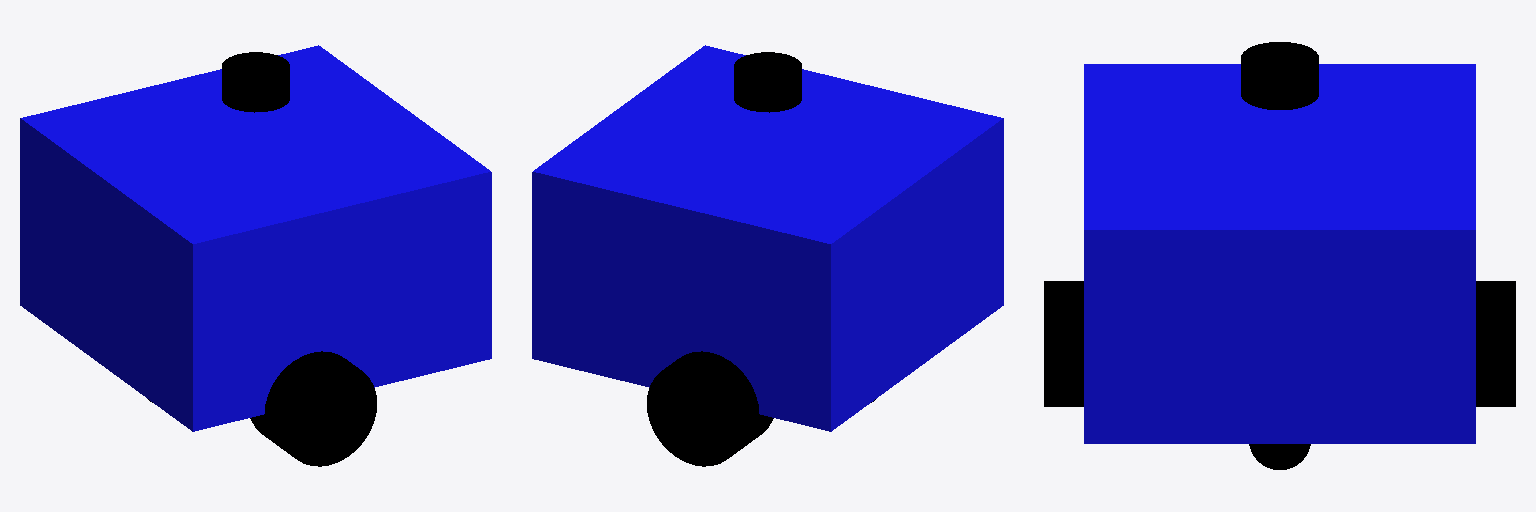
The robot description file, URDF, robot "fishbot":
<?xml version="1.0"?>
<robot name="fishbot">


  <!-- Robot Footprint -->
  <link name="base_footprint"/>

  <joint name="base_joint" type="fixed">
    <parent link="base_footprint"/>
    <child link="base_link"/>
    <origin xyz="0.0 0.0 0.2" rpy="0 0 0"/>
  </joint>


  <!-- base link -->
  <link name="base_link">
  	<visual>
      <origin xyz="0 0 0.0" rpy="0 0 0"/>
      <geometry>
    <box size="0.2 0.2 0.12" />
      </geometry>
      <material name="blue">
      	<color rgba="0.1 0.1 1.0 0.5" /> 
      </material>
    </visual>
    <collision>
      <origin xyz="0 0 0.0" rpy="0 0 0"/>
      <geometry>
    <box size="0.2 0.2 0.12" />
      </geometry>
      <material name="blue">
      	<color rgba="0.1 0.1 1.0 0.5" /> 
      </material>
    </collision>
    <inertial>
      <mass value="0.2"/>
      <inertia ixx="0.0122666" ixy="0" ixz="0" iyy="0.0122666" iyz="0" izz="0.02"/>
    </inertial>
  </link>
    
  <!-- laser link -->
  <link name="laser_link">
    <visual>
      <origin xyz="0 0 0" rpy="0 0 0"/>
      <geometry>
        <cylinder length="0.02" radius="0.02"/>
      </geometry>
      <material name="black">
        <color rgba="0.0 0.0 0.0 0.5" /> 
      </material>
    </visual>
    <collision>
      <origin xyz="0 0 0" rpy="0 0 0"/>
      <geometry>
        <cylinder length="0.02" radius="0.02"/>
      </geometry>
      <material name="black">
        <color rgba="0.0 0.0 0.0 0.5" /> 
      </material>
    </collision>
    <inertial>
    <mass value="0.1"/>
      <inertia ixx="0.000190416666667" ixy="0" ixz="0" iyy="0.0001904" iyz="0" izz="0.00036"/>
    </inertial>
  </link>
  
  <!-- laser joint -->
  <joint name="laser_joint" type="fixed">
      <parent link="base_link" />
      <child link="laser_link" />
      <origin xyz="0 0 0.1" />
  </joint>

  <link name="imu_link">
  	<visual>
      <origin xyz="0 0 0.0" rpy="0 0 0"/>
      <geometry>
		    <box size="0.02 0.02 0.02"/>
      </geometry>
    </visual>
    <collision>
      <origin xyz="0 0 0.0" rpy="0 0 0"/>
      <geometry>
		    <box size="0.02 0.02 0.02"/>
      </geometry>
    </collision>
    <inertial>
      <mass value="0.1"/>
        <inertia ixx="0.000190416666667" ixy="0" ixz="0" iyy="0.0001904" iyz="0" izz="0.00036"/>
      </inertial>
  </link>

  <!-- imu joint -->
  <joint name="imu_joint" type="fixed">
      <parent link="base_link" />
      <child link="imu_link" />
      <origin xyz="0 0 0.02" />
  </joint>


  <link name="left_wheel_link">
      <visual>
        <origin xyz="0 0 0" rpy="1.57079 0 0"/>
        <geometry>
          <cylinder length="0.04" radius="0.032"/>
        </geometry>
          <material name="black">
            <color rgba="0.0 0.0 0.0 0.5" /> 
          </material>
      </visual>
      <collision>
        <origin xyz="0 0 0" rpy="1.57079 0 0"/>
        <geometry>
          <cylinder length="0.04" radius="0.032"/>
        </geometry>
          <material name="black">
            <color rgba="0.0 0.0 0.0 0.5" /> 
          </material>
      </collision>
      <inertial>
        <mass value="0.2"/>
          <inertia ixx="0.000190416666667" ixy="0" ixz="0" iyy="0.0001904" iyz="0" izz="0.00036"/>
        </inertial>
  </link>
    
  <link name="right_wheel_link">
      <visual>
        <origin xyz="0 0 0" rpy="1.57079 0 0"/>
        <geometry>
          <cylinder length="0.04" radius="0.032"/>
        </geometry>
          <material name="black">
            <color rgba="0.0 0.0 0.0 0.5" /> 
          </material>
      </visual>
      <collision>
        <origin xyz="0 0 0" rpy="1.57079 0 0"/>
        <geometry>
          <cylinder length="0.04" radius="0.032"/>
        </geometry>
          <material name="black">
            <color rgba="0.0 0.0 0.0 0.5" /> 
          </material>
      </collision>
      <inertial>
      <mass value="0.2"/>
      <inertia ixx="0.000190416666667" ixy="0" ixz="0" iyy="0.0001904" iyz="0" izz="0.00036"/>
    </inertial>
  </link>
    
  <joint name="left_wheel_joint" type="continuous">
      <parent link="base_link" />
      <child link="left_wheel_link" />
      <origin xyz="-0.02 0.10 -0.06" />
      <axis xyz="0 1 0" />
  </joint>

  <joint name="right_wheel_joint" type="continuous">
      <parent link="base_link" />
      <child link="right_wheel_link" />
      <origin xyz="-0.02 -0.10 -0.06" />
      <axis xyz="0 1 0" />
  </joint>

  <link name="caster_link">
      <visual>
        <origin xyz="0 0 0" rpy="1.57079 0 0"/>
        <geometry>
            <sphere radius="0.016"/>
        </geometry>
          <material name="black">
            <color rgba="0.0 0.0 0.0 0.5" /> 
          </material>
      </visual>
      <collision>
        <origin xyz="0 0 0" rpy="1.57079 0 0"/>
        <geometry>
            <sphere radius="0.016"/>
        </geometry>
          <material name="black">
            <color rgba="0.0 0.0 0.0 0.5" /> 
          </material>
      </collision>
      <inertial>
      <mass value="0.02"/>
      <inertia ixx="0.000190416666667" ixy="0" ixz="0" iyy="0.0001904" iyz="0" izz="0.00036"/>
    </inertial>
  </link>
    
  <joint name="caster_joint" type="fixed">
      <parent link="base_link" />
      <child link="caster_link" />
      <origin xyz="0.06 0.0 -0.076" />
      <axis xyz="0 1 0" />
  </joint>



  <gazebo reference="caster_link">
    <material>Gazebo/Black</material>
  </gazebo>

  <gazebo reference="caster_link">
    <mu1 value="0.0"/>
    <mu2 value="0.0"/>
    <kp value="1000000.0" />
    <kd value="10.0" />
  </gazebo>

<!-- new -->
  <link name="caster1_link">
      <visual>
        <origin xyz="0 0 0" rpy="1.57079 0 0"/>
        <geometry>
            <sphere radius="0.016"/>
        </geometry>
          <material name="black">
            <color rgba="0.0 0.0 0.0 0.5" /> 
          </material>
      </visual>
      <collision>
        <origin xyz="0 0 0" rpy="1.57079 0 0"/>
        <geometry>
            <sphere radius="0.016"/>
        </geometry>
          <material name="black">
            <color rgba="0.0 0.0 0.0 0.5" /> 
          </material>
      </collision>
      <inertial>
      <mass value="0.02"/>
      <inertia ixx="0.000190416666667" ixy="0" ixz="0" iyy="0.0001904" iyz="0" izz="0.00036"/>
    </inertial>
  </link>
    
  <joint name="caster1_joint" type="fixed">
      <parent link="base_link" />
      <child link="caster1_link" />
      <origin xyz="-0.06 0.0 -0.076" />
      <axis xyz="0 1 0" />
  </joint>



  <gazebo reference="caster1_link">
    <material>Gazebo/Black</material>
  </gazebo>

  <gazebo reference="caster1_link">
    <mu1 value="0.0"/>
    <mu2 value="0.0"/>
    <kp value="1000000.0" />
    <kd value="10.0" />
  </gazebo>
<!-- new -->


  <gazebo>
    <plugin name='diff_drive' filename='libgazebo_ros_diff_drive.so'>
          <ros>
            <namespace>/</namespace>
            <remapping>cmd_vel:=cmd_vel</remapping>
            <remapping>odom:=odom</remapping>
          </ros>
          <update_rate>30</update_rate>
          <!-- wheels -->
          <left_joint>left_wheel_joint</left_joint>
          <right_joint>right_wheel_joint</right_joint>
          <!-- kinematics -->
          <wheel_separation>0.2</wheel_separation>
          <wheel_diameter>0.065</wheel_diameter>
          <!-- limits -->
          <max_wheel_torque>20</max_wheel_torque>
          <max_wheel_acceleration>1.0</max_wheel_acceleration>
          <!-- output -->
          <publish_odom>true</publish_odom>
          <publish_odom_tf>true</publish_odom_tf>
          <publish_wheel_tf>true</publish_wheel_tf>
          <odometry_frame>odom</odometry_frame>
          <robot_base_frame>base_footprint</robot_base_frame>
      </plugin>
    </gazebo> 

    <gazebo reference="imu_link">
      <sensor name="imu_sensor" type="imu">
      <plugin filename="libgazebo_ros_imu_sensor.so" name="imu_plugin">
          <ros>
            <namespace>/</namespace>
            <remapping>~/out:=imu</remapping>
          </ros>
          <initial_orientation_as_reference>false</initial_orientation_as_reference>
        </plugin>
        <always_on>true</always_on>
        <update_rate>100</update_rate>
        <visualize>true</visualize>
        <imu>
          <angular_velocity>
            <x>
              <noise type="gaussian">
                <mean>0.0</mean>
                <stddev>2e-4</stddev>
                <bias_mean>0.0000075</bias_mean>
                <bias_stddev>0.0000008</bias_stddev>
              </noise>
            </x>
            <y>
              <noise type="gaussian">
                <mean>0.0</mean>
                <stddev>2e-4</stddev>
                <bias_mean>0.0000075</bias_mean>
                <bias_stddev>0.0000008</bias_stddev>
              </noise>
            </y>
            <z>
              <noise type="gaussian">
                <mean>0.0</mean>
                <stddev>2e-4</stddev>
                <bias_mean>0.0000075</bias_mean>
                <bias_stddev>0.0000008</bias_stddev>
              </noise>
            </z>
          </angular_velocity>
          <linear_acceleration>
            <x>
              <noise type="gaussian">
                <mean>0.0</mean>
                <stddev>1.7e-2</stddev>
                <bias_mean>0.1</bias_mean>
                <bias_stddev>0.001</bias_stddev>
              </noise>
            </x>
            <y>
              <noise type="gaussian">
                <mean>0.0</mean>
                <stddev>1.7e-2</stddev>
                <bias_mean>0.1</bias_mean>
                <bias_stddev>0.001</bias_stddev>
              </noise>
            </y>
            <z>
              <noise type="gaussian">
                <mean>0.0</mean>
                <stddev>1.7e-2</stddev>
                <bias_mean>0.1</bias_mean>
                <bias_stddev>0.001</bias_stddev>
              </noise>
            </z>
          </linear_acceleration>
        </imu>
      </sensor>
    </gazebo>

  <gazebo reference="laser_link">
      <sensor name="laser_sensor" type="ray">
      <always_on>true</always_on>
      <visualize>true</visualize>
      <update_rate>10</update_rate>
      <pose>0 0 0.15 0 0 0</pose>
      <ray>
          <scan>
            <horizontal>
              <samples>360</samples>
              <resolution>1.000000</resolution>
              <min_angle>0.000000</min_angle>
              <max_angle>6.280000</max_angle>
            </horizontal>
          </scan>
          <range>
            <min>0.2</min>
            <max>10.0</max>
            <resolution>0.015000</resolution>
          </range>
          <noise>
            <type>gaussian</type>
            <mean>0.0</mean>
            <stddev>0.01</stddev>
          </noise>
      </ray>

      <plugin name="laserscan" filename="libgazebo_ros_ray_sensor.so">
        <ros>
          <remapping>~/out:=scan</remapping>
        </ros>
        <output_type>sensor_msgs/LaserScan</output_type>
        <frame_name>laser_link</frame_name>
      </plugin>
      </sensor>
    </gazebo>

</robot>

--- Facts derived from the render (not from the file) ---
The picture shows the robot from 3 angles, left to right: view 1: azimuth 30°, elevation 25°; view 2: azimuth 150°, elevation 25°; view 3: azimuth 270°, elevation 25°; orthographic projection.
Robot: fishbot — 8 links, 7 joints (2 continuous, 5 fixed); root link base_footprint; default pose: all joints at 0.
Links seen in each view (by area): view 1: base_link, right_wheel_link, laser_link; view 2: base_link, left_wheel_link, laser_link; view 3: base_link, left_wheel_link, right_wheel_link, laser_link, caster_link.
Link boxes in pixels (bbox=[...]): base_link: bbox=[20, 45, 491, 431]; right_wheel_link: bbox=[250, 351, 376, 466]; laser_link: bbox=[222, 52, 289, 112]; base_link: bbox=[532, 45, 1003, 431]; left_wheel_link: bbox=[647, 351, 773, 466]; laser_link: bbox=[734, 52, 801, 112]; base_link: bbox=[1084, 64, 1475, 443]; left_wheel_link: bbox=[1476, 281, 1515, 406]; right_wheel_link: bbox=[1044, 281, 1083, 406]; laser_link: bbox=[1241, 42, 1318, 109]; caster_link: bbox=[1249, 444, 1310, 469].
Bounding box of the posed robot: 0.2 × 0.24 × 0.202 m (x, y, z).
Geometry: primitives only (box / cylinder / sphere), no mesh files.
